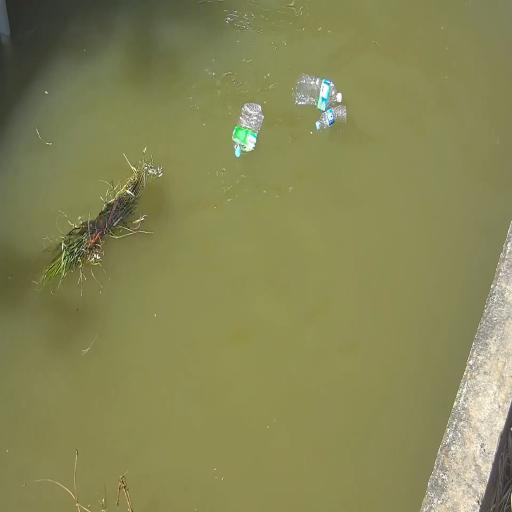plastic: (294, 74, 341, 111), (232, 103, 263, 157), (316, 105, 346, 130), (234, 144, 242, 158)
twig: (36, 148, 162, 287)
